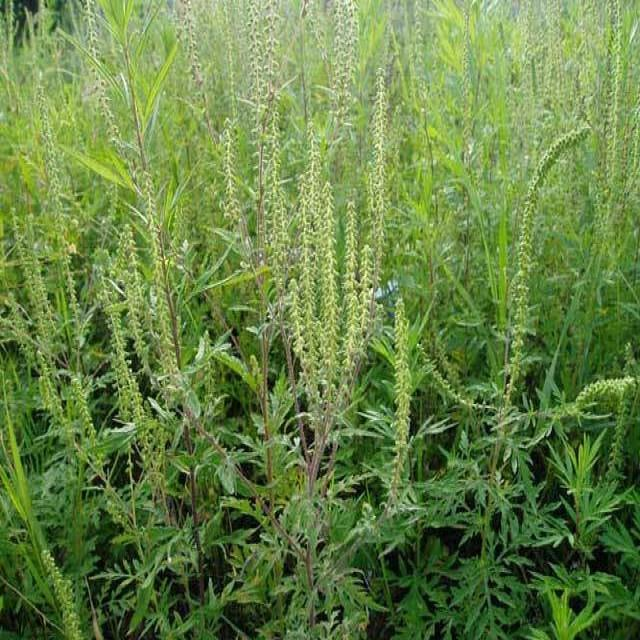ambrosia: (266, 143, 374, 411), (96, 173, 192, 458), (513, 65, 579, 442), (23, 473, 100, 640), (380, 277, 426, 491), (67, 0, 129, 147), (242, 1, 304, 113)
